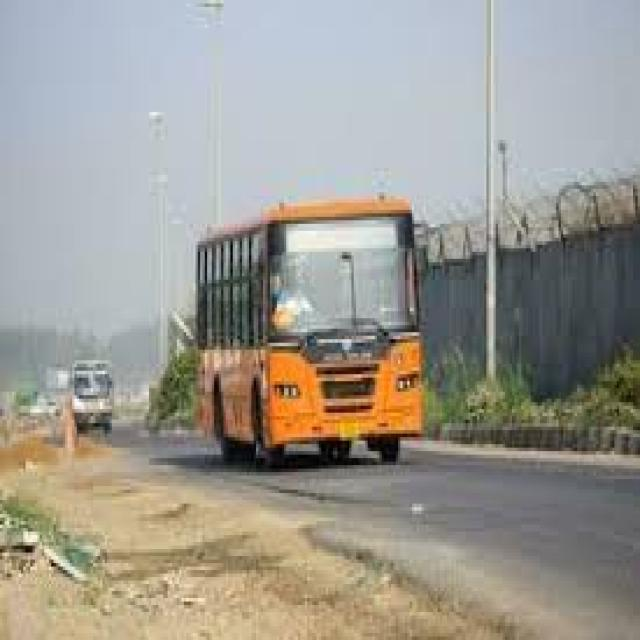Vehicles: (184, 185, 444, 482), (64, 357, 132, 470)
